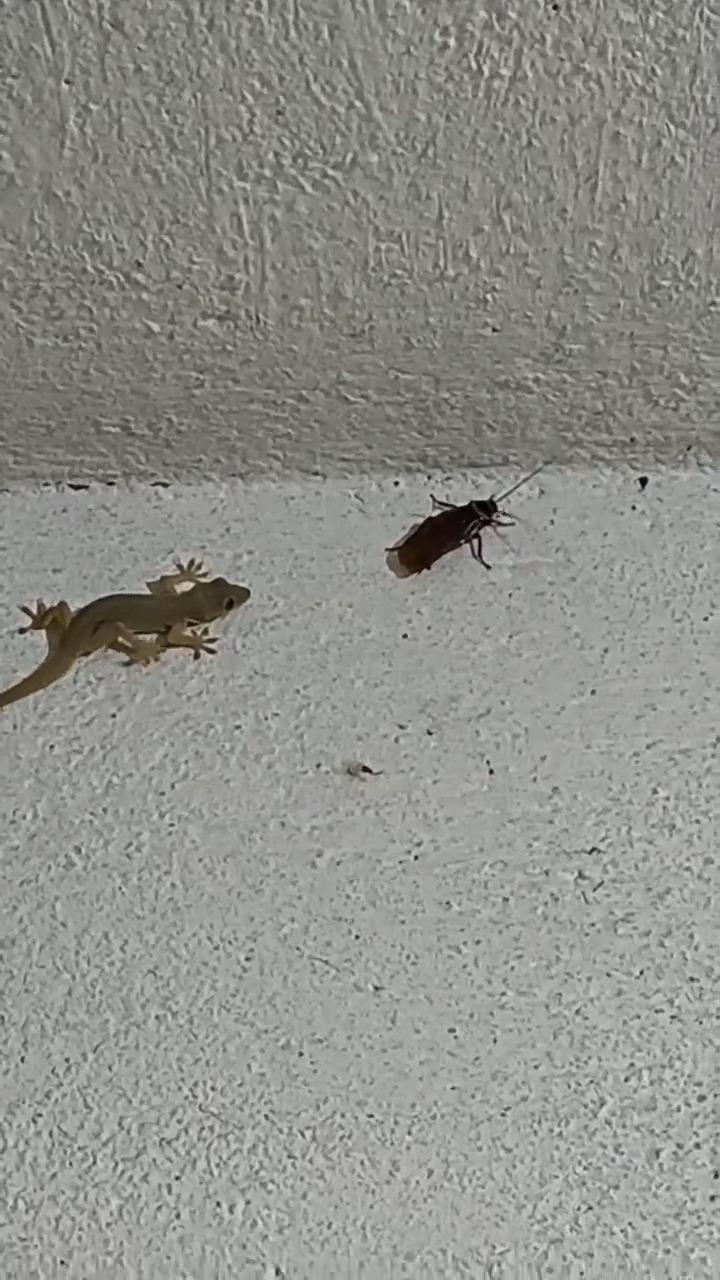cockroach: (366, 476, 533, 590)
lizard: (0, 543, 269, 712)
